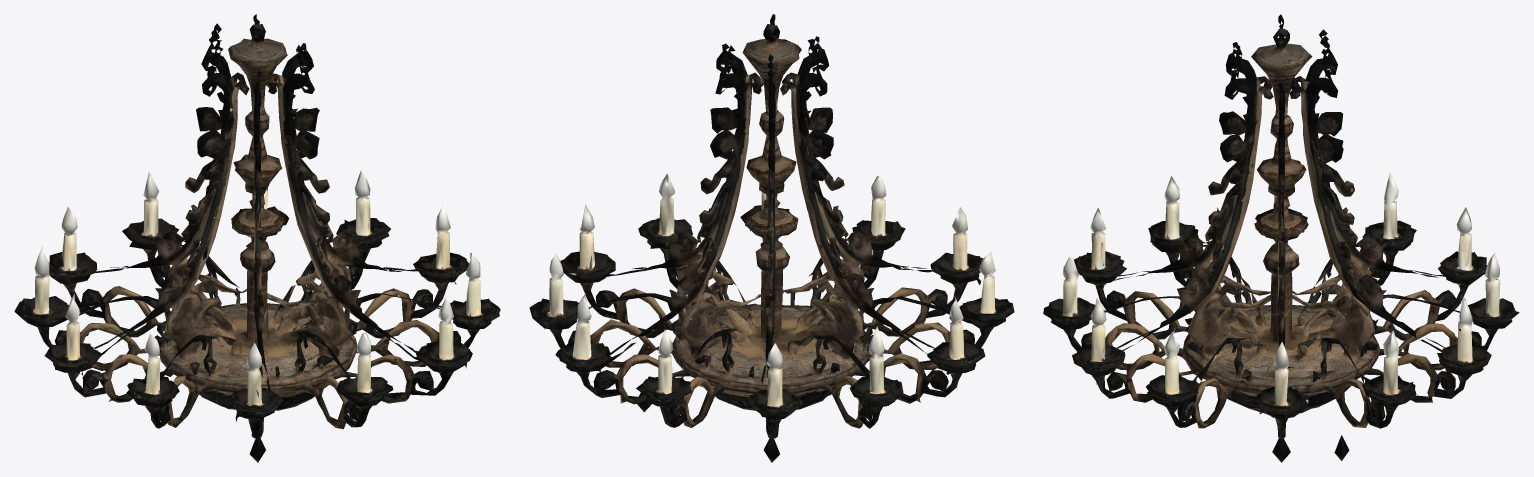
The model's file is gothic_chandelier.glb.
3 renders of one model, left to right at view 1: azimuth 30°, elevation 25°; view 2: azimuth 150°, elevation 25°; view 3: azimuth 270°, elevation 25°, orthographic.
Bounding box in the file's own units: 1.9 × 1.91 × 1.91.
Materials: 1 (1 with a texture image).
